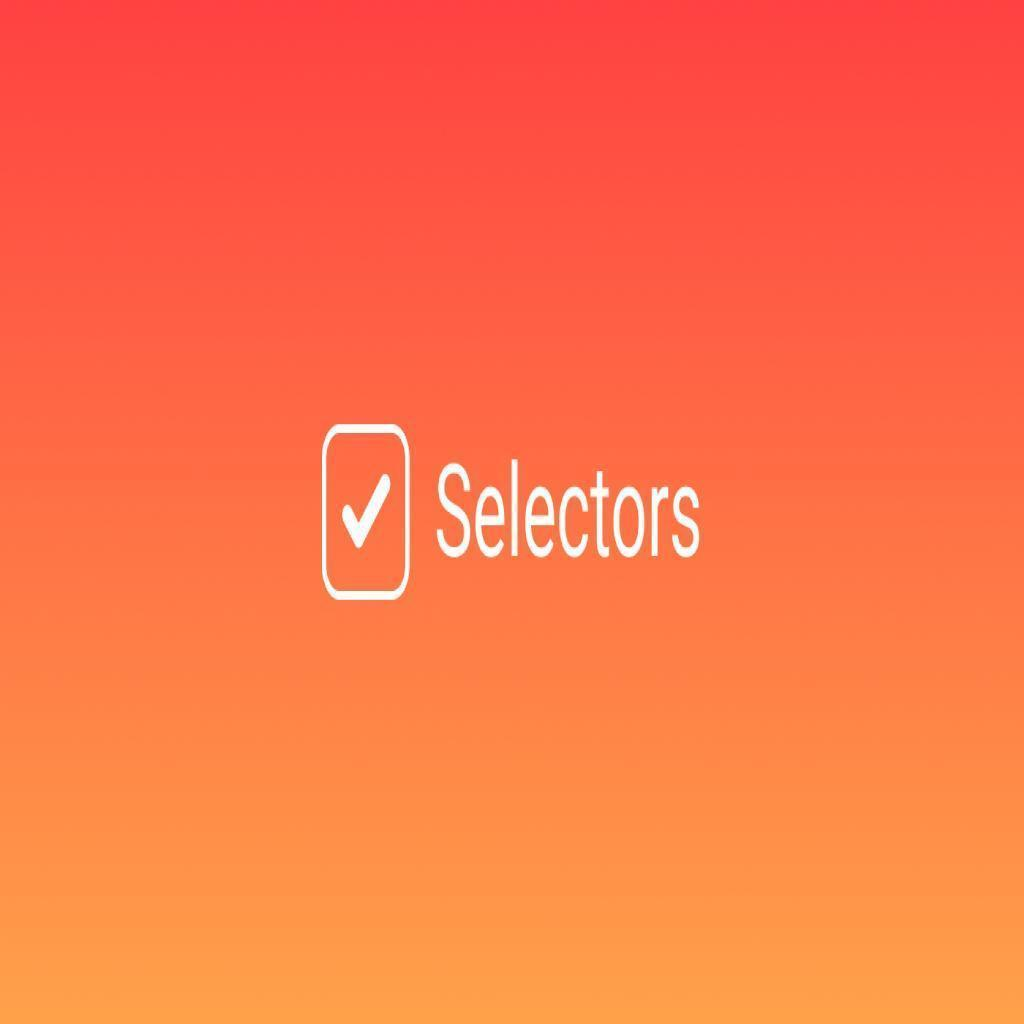checkbox: (320, 427, 409, 597)
label: (435, 459, 711, 566)
